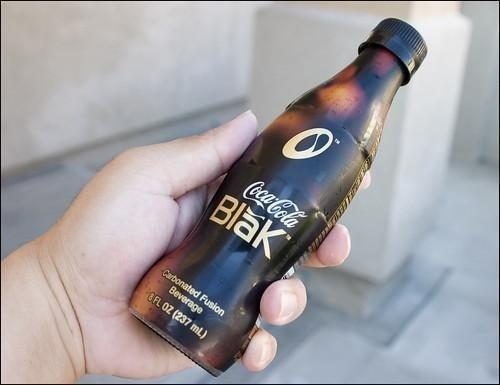bottle-glass: (126, 15, 429, 379)
